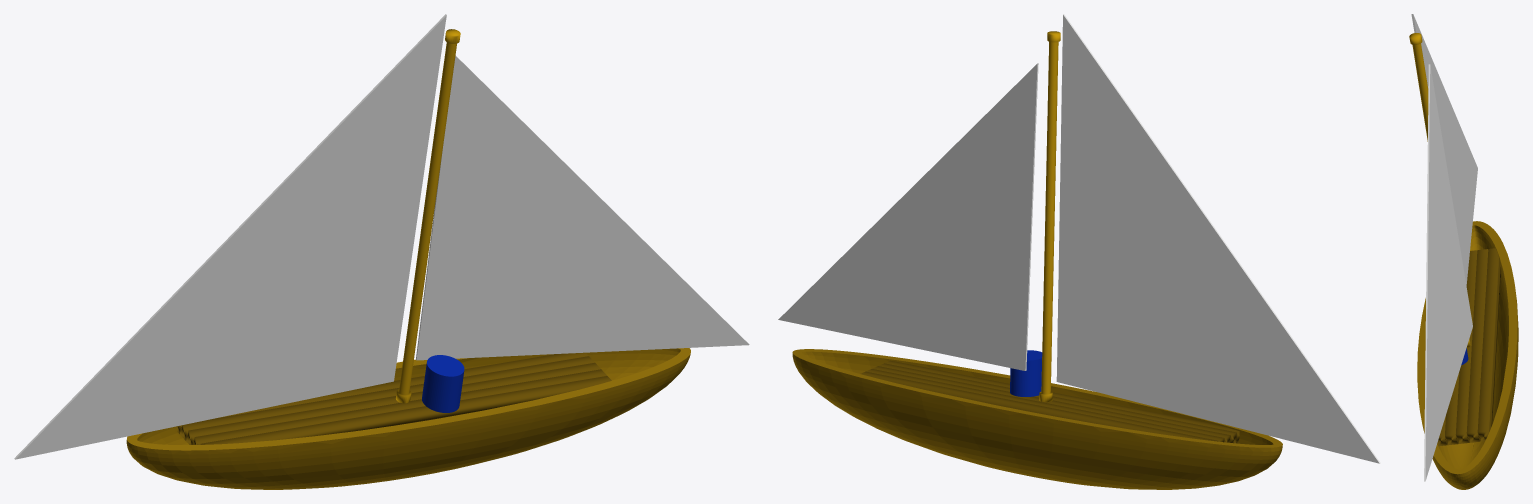
File: yacht.fbx
The picture shows the model from 3 angles, left to right: view 1: azimuth 30°, elevation 25°; view 2: azimuth 150°, elevation 25°; view 3: azimuth 270°, elevation 25°; orthographic projection. The views are drawn at different scales.
Visible parts, largest first — view 1: polySurface5, polySurface6, polySurface1, polySurface3, polySurface4, polySurface7; view 2: polySurface5, polySurface6, polySurface1, polySurface3, polySurface4, polySurface7; view 3: polySurface6, polySurface1, polySurface3, polySurface5, polySurface4.
Part boxes in pixels (left/top/right/bottom): polySurface5: left=14, top=14, right=446, bottom=459; polySurface6: left=416, top=56, right=749, bottom=360; polySurface1: left=126, top=348, right=690, bottom=489; polySurface3: left=177, top=352, right=611, bottom=444; polySurface4: left=396, top=29, right=460, bottom=403; polySurface7: left=422, top=355, right=464, bottom=412; polySurface5: left=1056, top=14, right=1380, bottom=463; polySurface6: left=778, top=63, right=1038, bottom=370; polySurface1: left=792, top=349, right=1282, bottom=489; polySurface3: left=860, top=360, right=1239, bottom=443; polySurface4: left=1039, top=31, right=1060, bottom=402; polySurface7: left=1010, top=350, right=1042, bottom=396; polySurface6: left=1424, top=64, right=1472, bottom=481; polySurface1: left=1417, top=221, right=1518, bottom=489; polySurface3: left=1437, top=248, right=1501, bottom=446; polySurface5: left=1411, top=14, right=1477, bottom=285; polySurface4: left=1409, top=33, right=1470, bottom=347.
Bounding box in the file's own units: 79.05 × 52.23 × 12.81.
